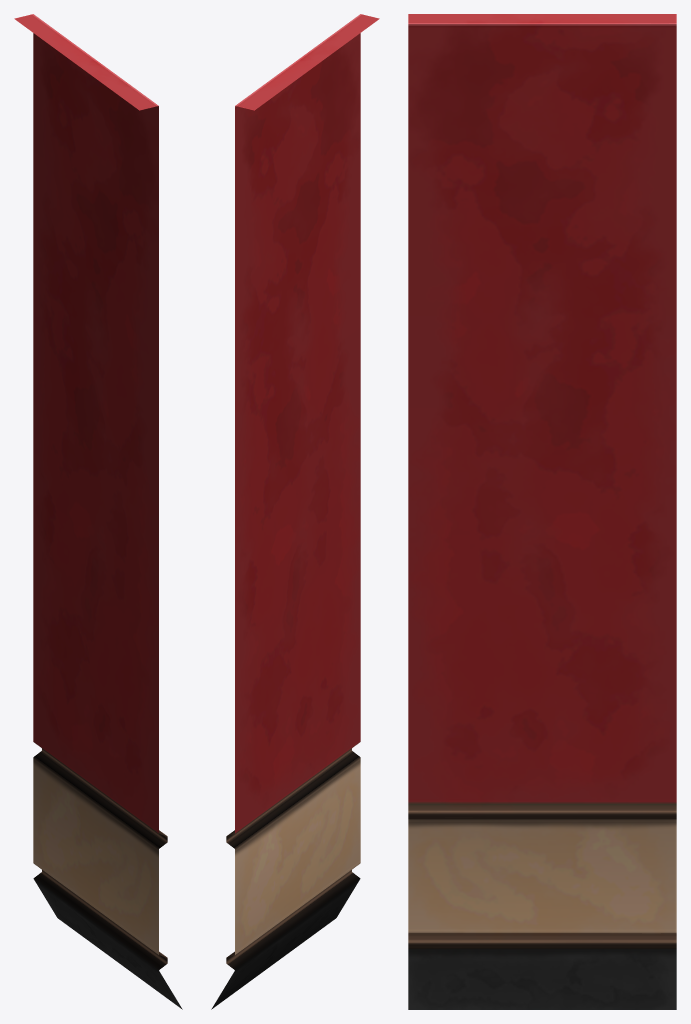
File: em_wall_hallway_straight.fbx
The picture shows the model from 3 angles, left to right: view 1: azimuth 30°, elevation 25°; view 2: azimuth 150°, elevation 25°; view 3: azimuth 270°, elevation 25°; orthographic projection. The views are drawn at different scales.
Visible parts, largest first — view 1: em_wall_hallway_straight; view 2: em_wall_hallway_straight; view 3: em_wall_hallway_straight.
Part boxes in pixels (<box>): em_wall_hallway_straight: <box>14,14,182,1009</box>; em_wall_hallway_straight: <box>211,14,379,1009</box>; em_wall_hallway_straight: <box>408,14,676,1009</box>.
Size of the model in its own units: 100 by 2000 by 500.
